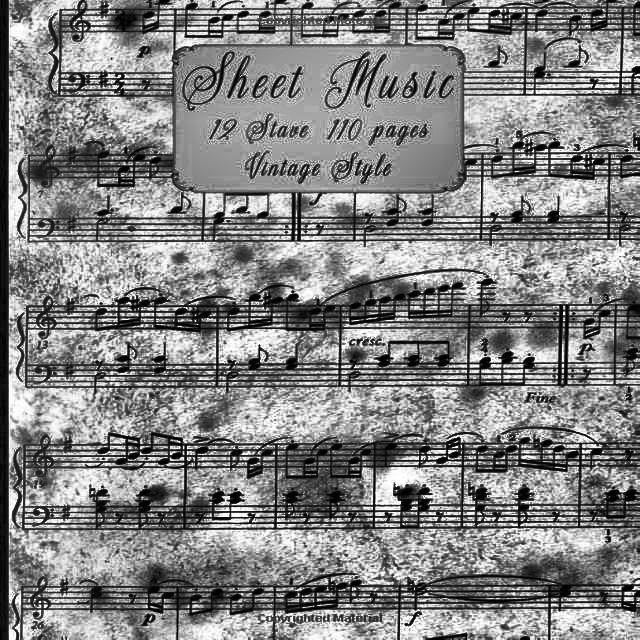Bass-clef: (30, 503, 50, 529), (32, 362, 52, 386), (66, 72, 86, 96), (37, 216, 55, 238)
Diez: (96, 68, 112, 88), (67, 144, 81, 166), (62, 361, 78, 379), (60, 434, 76, 452), (58, 576, 70, 596), (59, 502, 72, 520), (68, 214, 80, 233), (98, 0, 110, 16), (66, 298, 76, 314), (130, 296, 138, 312), (262, 292, 270, 308), (191, 306, 197, 322)
Eighth-note: (113, 341, 139, 374), (245, 340, 271, 372), (431, 334, 453, 370), (401, 338, 424, 369), (516, 486, 532, 530), (478, 277, 494, 319), (498, 351, 516, 387), (285, 293, 301, 333), (136, 488, 152, 528), (416, 488, 432, 528), (282, 444, 298, 481), (95, 488, 109, 530), (401, 486, 414, 530), (521, 357, 539, 388), (226, 491, 244, 521), (325, 490, 343, 520), (475, 358, 493, 387), (152, 298, 168, 330), (282, 490, 298, 522), (476, 487, 488, 529), (248, 588, 268, 612), (604, 489, 620, 519), (328, 444, 342, 478), (472, 446, 488, 474), (96, 430, 114, 454), (623, 489, 637, 519), (92, 306, 108, 332), (208, 586, 222, 614), (210, 492, 224, 520), (224, 308, 240, 332), (416, 445, 432, 469), (142, 431, 158, 454), (349, 579, 363, 605), (186, 594, 202, 616), (228, 592, 242, 616), (228, 450, 242, 472)
Eighth-rest: (154, 510, 170, 526), (522, 310, 534, 326), (500, 308, 512, 324), (598, 588, 610, 604), (367, 590, 379, 606), (126, 590, 138, 606), (588, 508, 600, 524), (245, 511, 257, 525), (301, 511, 313, 525), (382, 510, 392, 526), (346, 511, 358, 524), (434, 511, 446, 524), (92, 358, 104, 370), (226, 358, 238, 370), (114, 512, 126, 524), (194, 512, 206, 524), (492, 511, 502, 524), (624, 448, 632, 464), (552, 510, 560, 524)
Half-note: (92, 372, 110, 398), (222, 372, 242, 394), (414, 582, 426, 610)
Quarter-note: (149, 339, 171, 376), (284, 342, 304, 372), (558, 582, 574, 612), (90, 586, 104, 614), (382, 442, 398, 466), (588, 448, 604, 472), (194, 446, 210, 469)
Sixteenth-note: (450, 279, 466, 319), (244, 292, 260, 328), (391, 288, 405, 324), (114, 295, 128, 329), (170, 304, 186, 332), (518, 436, 532, 468), (144, 586, 160, 614), (436, 282, 448, 318), (540, 438, 552, 474), (596, 311, 612, 337), (312, 584, 328, 610), (422, 285, 434, 319), (160, 432, 172, 466), (619, 584, 633, 612), (408, 288, 420, 320), (160, 592, 176, 616), (314, 448, 326, 479), (564, 450, 580, 472), (198, 310, 212, 334), (348, 300, 360, 328), (364, 296, 376, 324), (129, 434, 141, 462), (284, 590, 298, 614), (244, 458, 260, 478), (138, 301, 150, 327), (378, 295, 390, 321), (334, 581, 346, 607), (580, 317, 594, 338), (553, 443, 563, 472), (450, 437, 462, 459), (492, 451, 504, 473), (346, 458, 358, 478), (300, 588, 310, 612)
Treble-clef: (34, 142, 62, 190), (30, 575, 54, 621), (35, 295, 59, 341), (33, 434, 56, 481), (68, 1, 92, 44)
